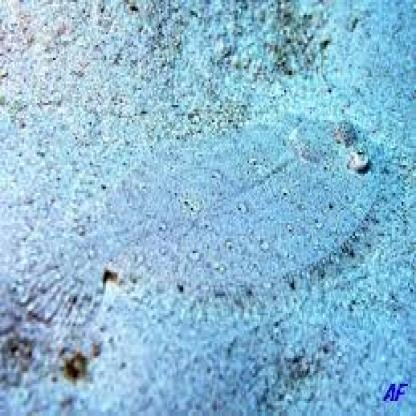flounder: (16, 111, 382, 327)
